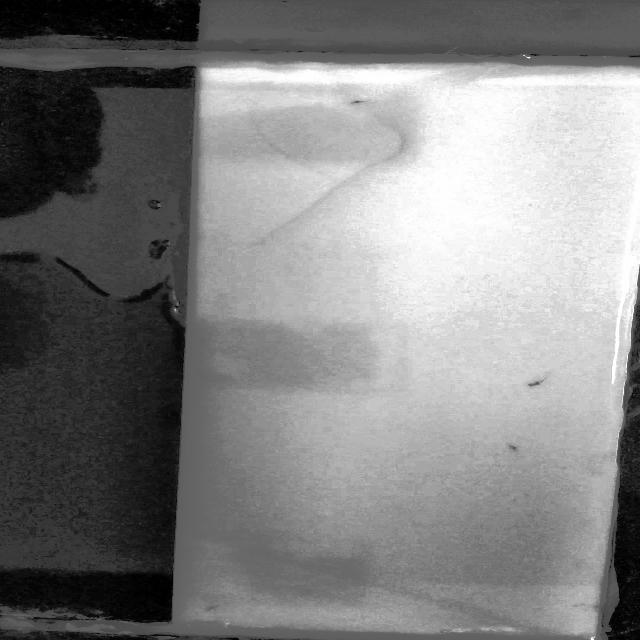shrimp: (194, 599, 227, 615), (337, 94, 374, 108), (521, 375, 551, 391), (502, 440, 529, 455)
